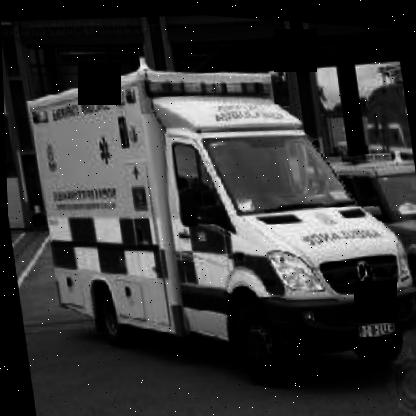emergency: (7, 17, 415, 415)
